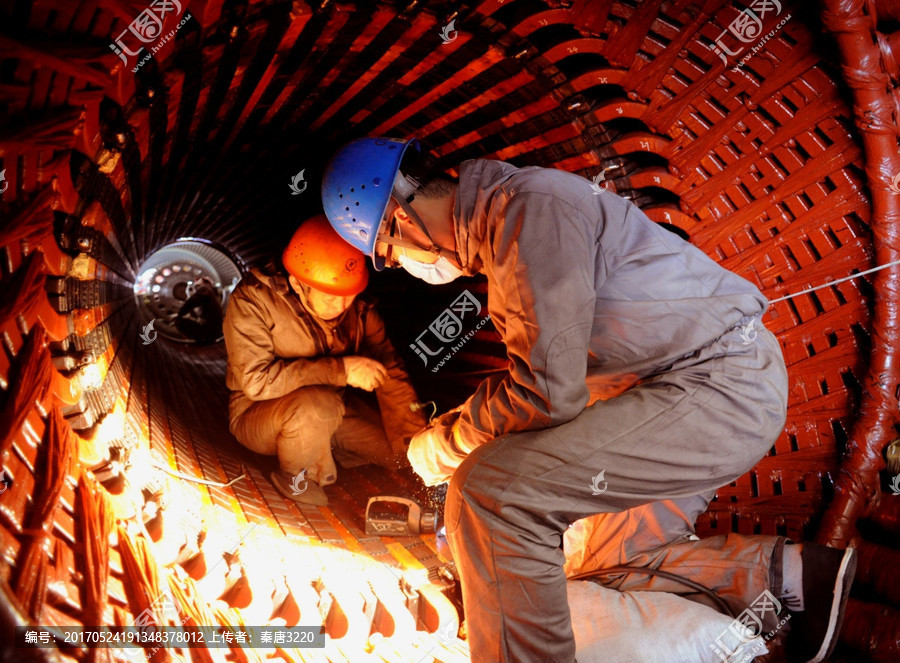safetyhat: (326, 129, 815, 644), (214, 211, 394, 481)
